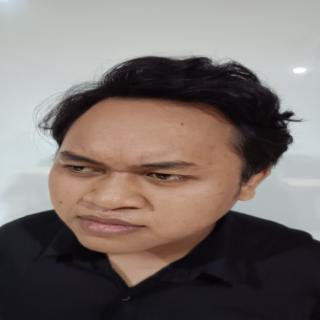Marah: (44, 88, 256, 260)
